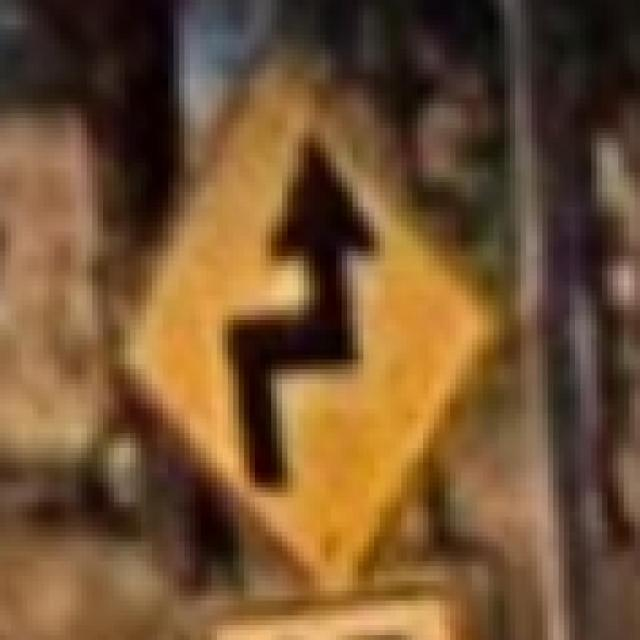Tikungan Ganda Pertama Ke Kanan: (92, 34, 510, 591)
